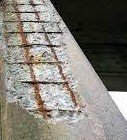Exposed reinforcement: (29, 1, 78, 107), (12, 1, 48, 120), (6, 43, 62, 48), (26, 108, 82, 113), (17, 80, 70, 85), (1, 20, 61, 24), (11, 61, 65, 65), (7, 31, 65, 34), (1, 3, 45, 6), (1, 11, 41, 14)
Spalling: (1, 1, 88, 125)
